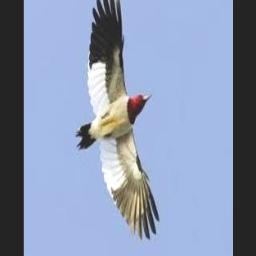Woodpecker: (75, 0, 159, 239)
